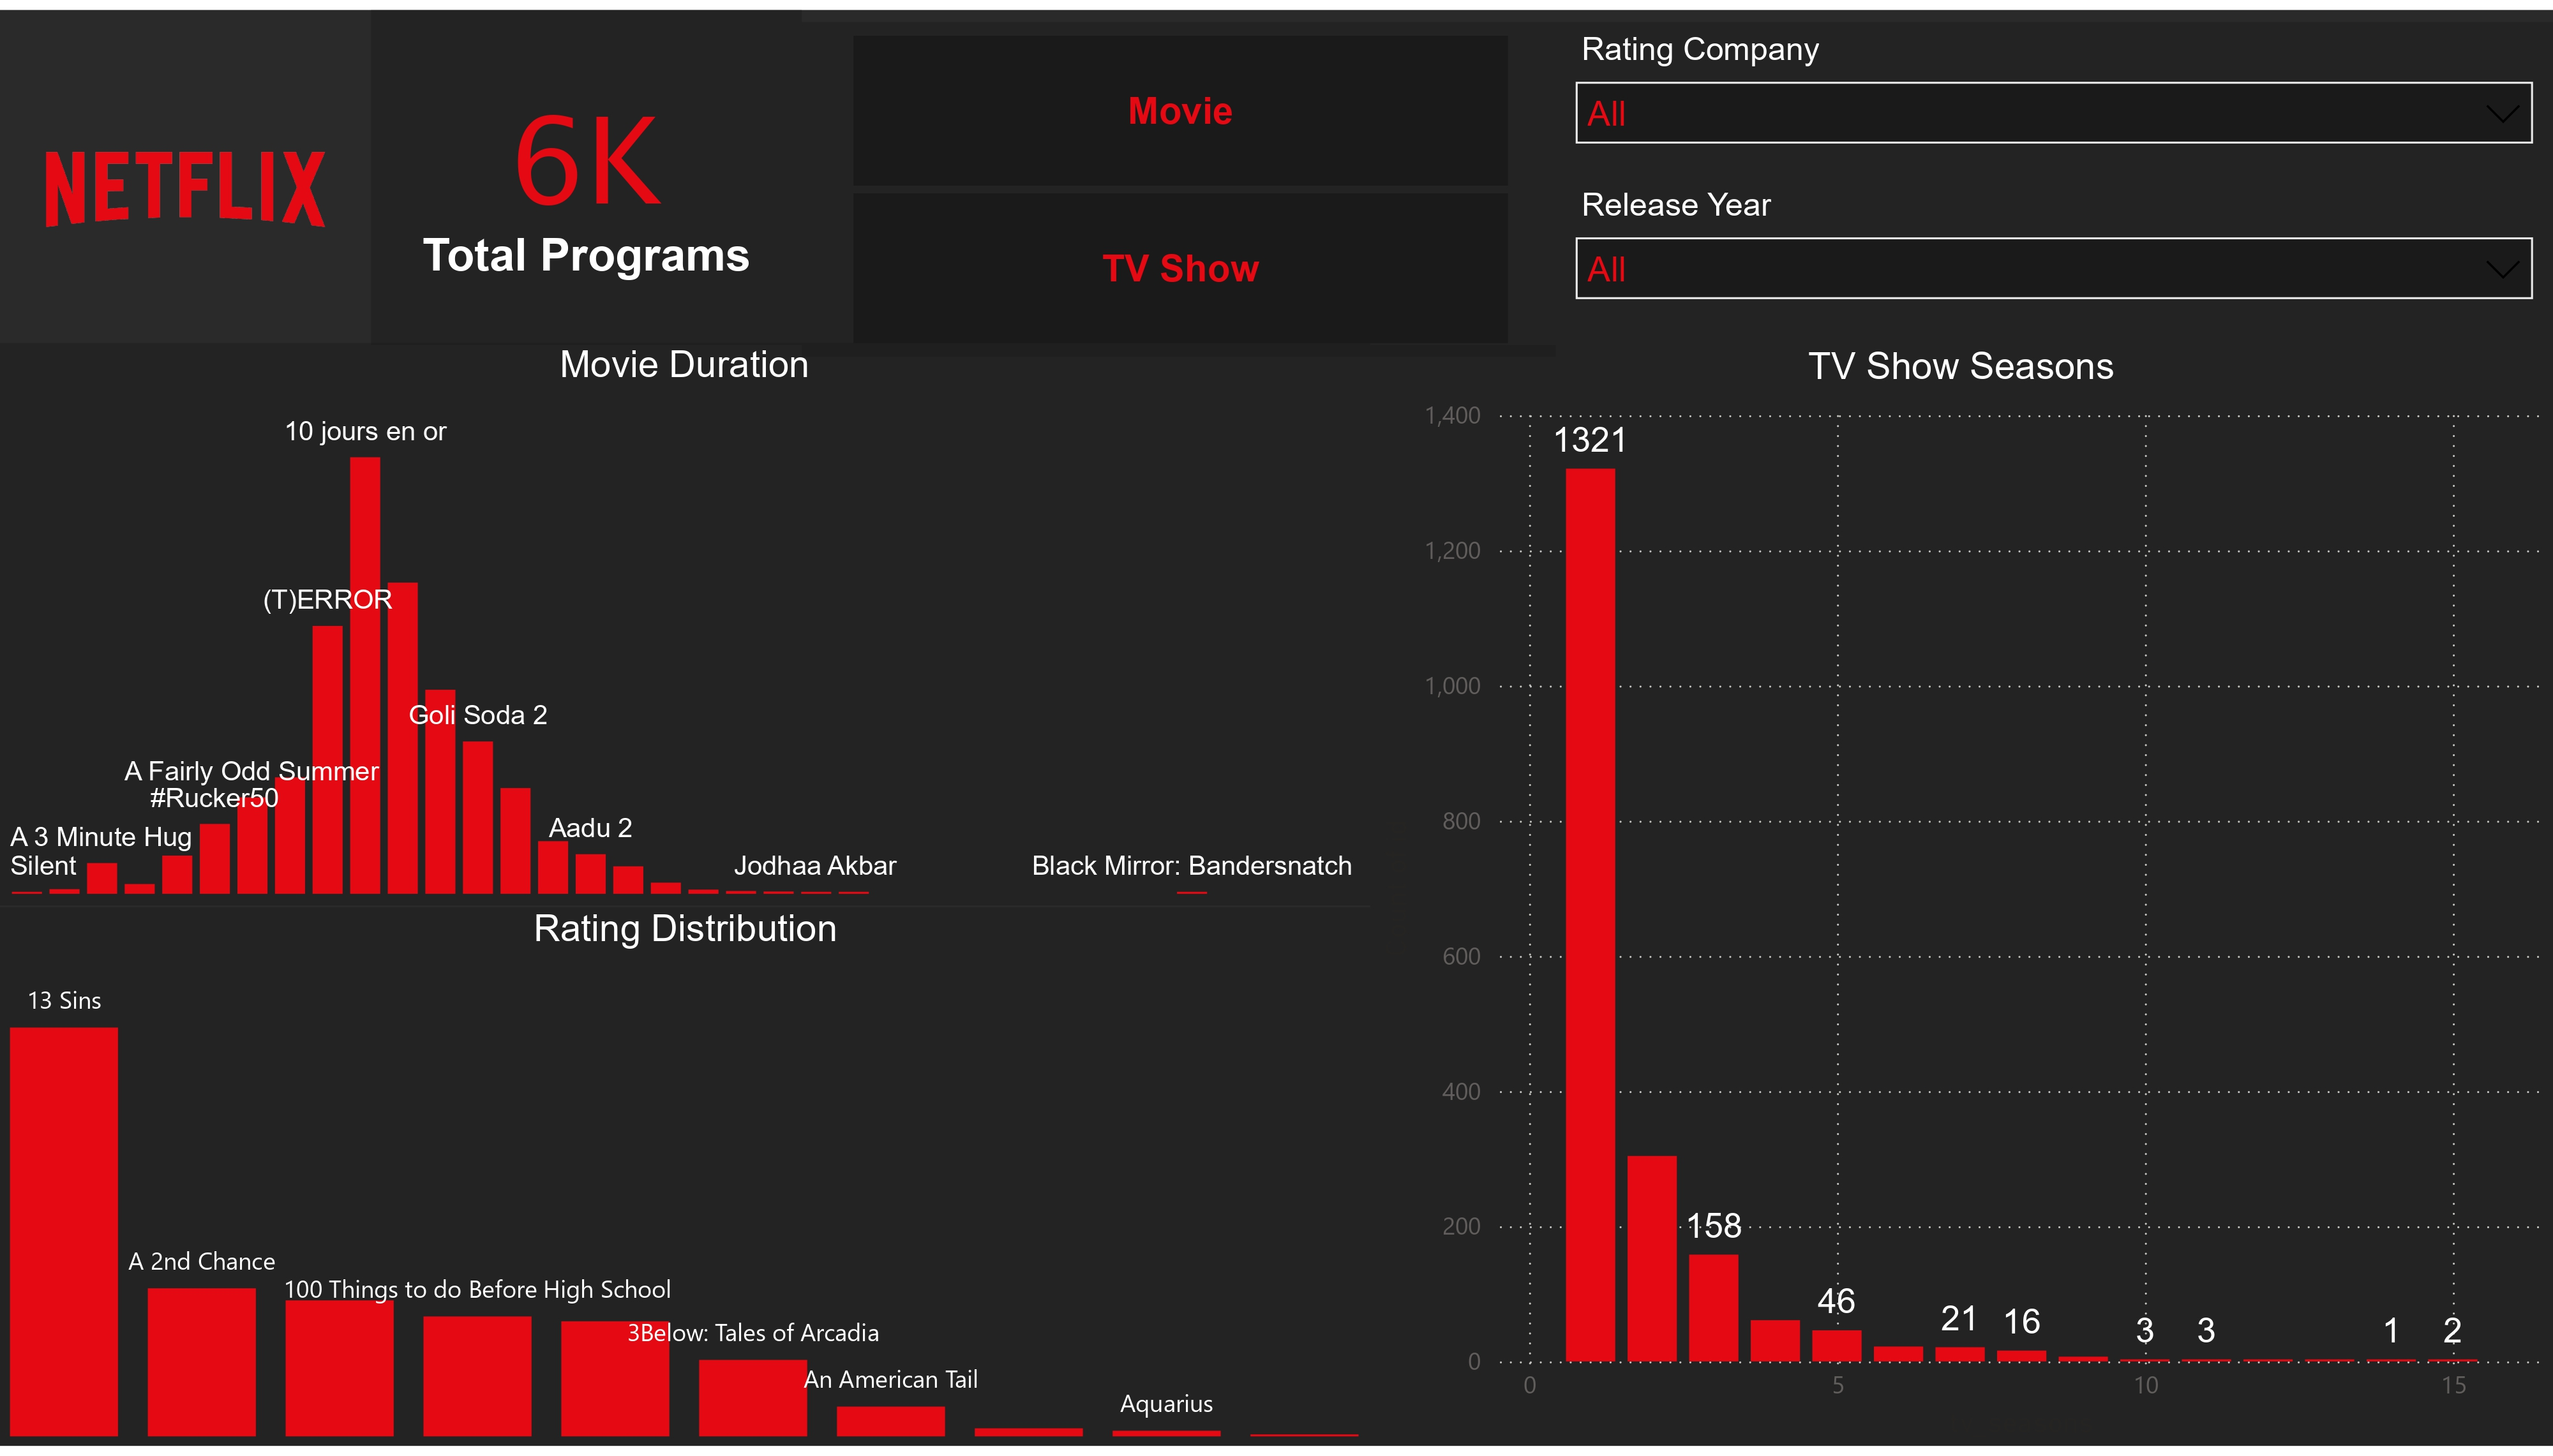

Layout of this report page (visuals, bound fields, positions):
{"tool":"powerbi","page":{"name":"Dashboard_2","canvas":[1280,720],"ordinal":1},"visuals":[{"type":"image","box":[0,0,185.9,179.8],"z":0},{"type":"columnChart","title":"Movie Duration","fields":{"Category":["public netflix.duration (bins)"],"Y":["Count(public netflix.id)"]},"box":[0,167.3,686.5,282.2],"z":1000},{"type":"columnChart","title":"TV Show Seasons","fields":{"Y":["Count(public netflix.id)"],"Category":["public netflix.tv_seasons"]},"box":[687.2,167.6,592.8,553.1],"z":2000},{"type":"columnChart","title":"Rating Distribution","fields":{"Y":["Count(public netflix.id)"],"Category":["public netflix.rating"]},"box":[0,449.5,687.2,271.2],"z":3000},{"type":"slicer","fields":{"Values":["public netflix.type"]},"box":[402.3,6.1,377.9,167.6],"z":4000},{"type":"slicer","title":"Rating Companies","fields":{"Values":["public netflix.rating"]},"box":[780.2,6.1,499.8,77.7],"z":5000},{"type":"slicer","fields":{"Values":["public netflix.release_year"]},"box":[780.2,83.8,499.8,83.8],"z":6000},{"type":"card","fields":{"Values":["public netflix.Total Movies"]},"box":[185.9,0,216.4,167.6],"z":7000}]}

Visuals, with their boxes in screenshot pixels (x1, y1, x2, y2), scaled from the page's 1280x720 canvas onto the 2553x1456 screenshot:
image: select_region(0, 0, 371, 364)
"Movie Duration" columnChart: select_region(0, 338, 1369, 909)
"TV Show Seasons" columnChart: select_region(1371, 339, 2552, 1455)
"Rating Distribution" columnChart: select_region(0, 909, 1371, 1455)
slicer - public netflix.type: select_region(802, 12, 1556, 352)
"Rating Companies" slicer: select_region(1556, 12, 2552, 170)
slicer - public netflix.release_year: select_region(1556, 170, 2552, 339)
card - public netflix.Total Movies: select_region(371, 0, 802, 339)
